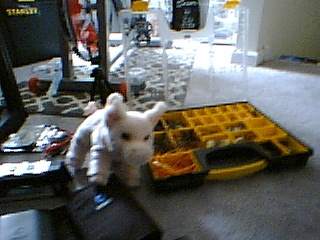piggy: (64, 91, 167, 188)
